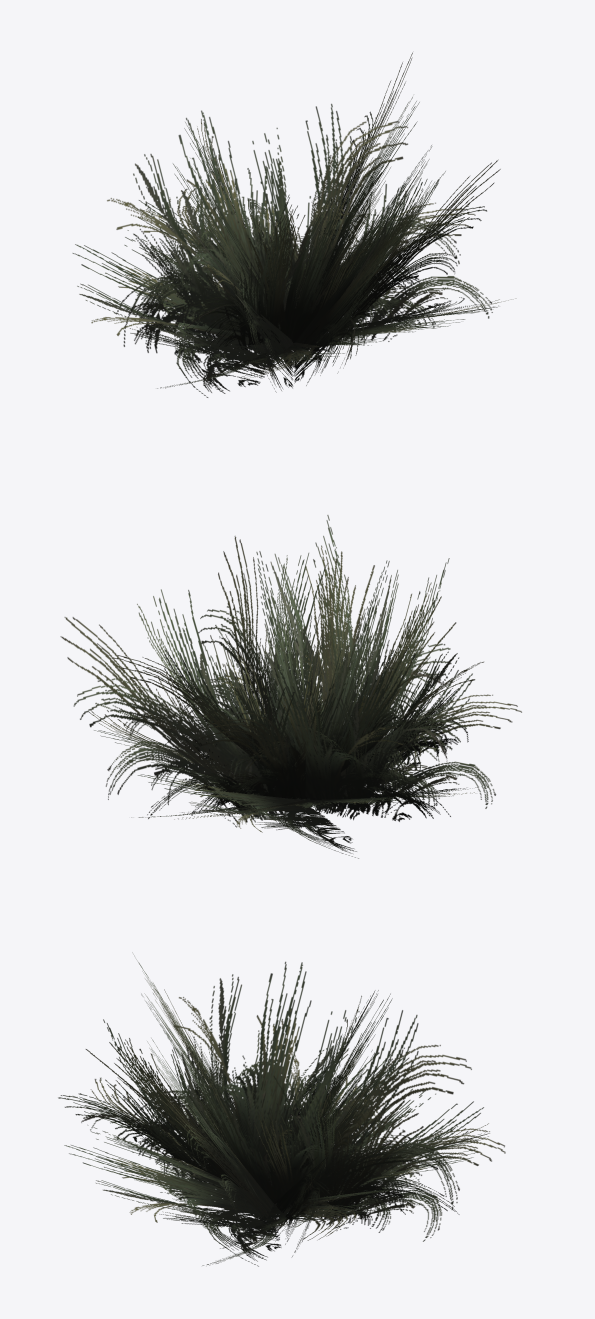
The model's file is Grass_E.glb.
The picture shows the model from 3 angles, top to bottom: view 1: azimuth 30°, elevation 25°; view 2: azimuth 150°, elevation 25°; view 3: azimuth 270°, elevation 25°; orthographic projection. The views are drawn at different scales.
Visible parts, largest first — view 1: E_LOD0; view 2: E_LOD0; view 3: E_LOD0.
Boxes of the visible parts, x1=… form: E_LOD0: x1=72, y1=52, x2=516, y2=397; E_LOD0: x1=60, y1=515, x2=521, y2=858; E_LOD0: x1=58, y1=952, x2=505, y2=1266.
Size of what is drawn, in the model's own units: 1.01 by 0.4599 by 0.984.
1 material, 1 textured.
